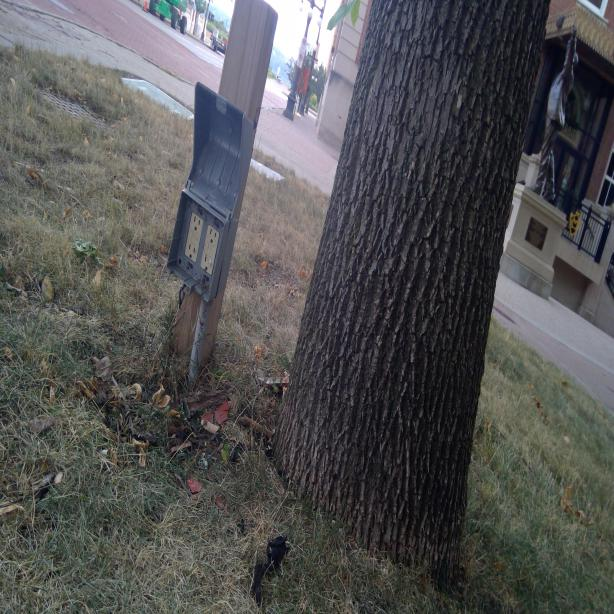typeb: (191, 214, 202, 234), (207, 226, 218, 246), (187, 242, 197, 259), (202, 254, 212, 270)
